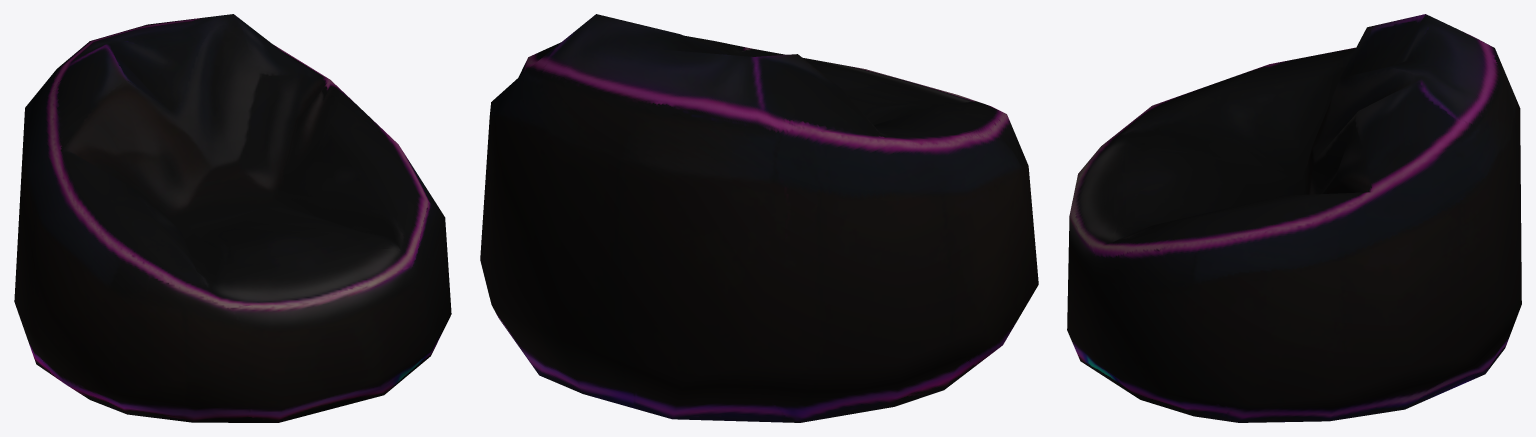
Rendered from neon-beanbag.glb.
3 renders of one model, left to right at view 1: azimuth 30°, elevation 25°; view 2: azimuth 150°, elevation 25°; view 3: azimuth 270°, elevation 25°, orthographic. The views are drawn at different scales.
Parts seen in each view (by area): view 1: geometry_0.001; view 2: geometry_0.001; view 3: geometry_0.001.
Boxes of the visible parts, x1,y1,x2,y2 form: geometry_0.001: (14,14,451,422); geometry_0.001: (480,14,1038,422); geometry_0.001: (1067,14,1521,422).
Bounding box in the file's own units: 1 × 0.6893 × 0.988.
Materials: 1 (1 with a texture image).
